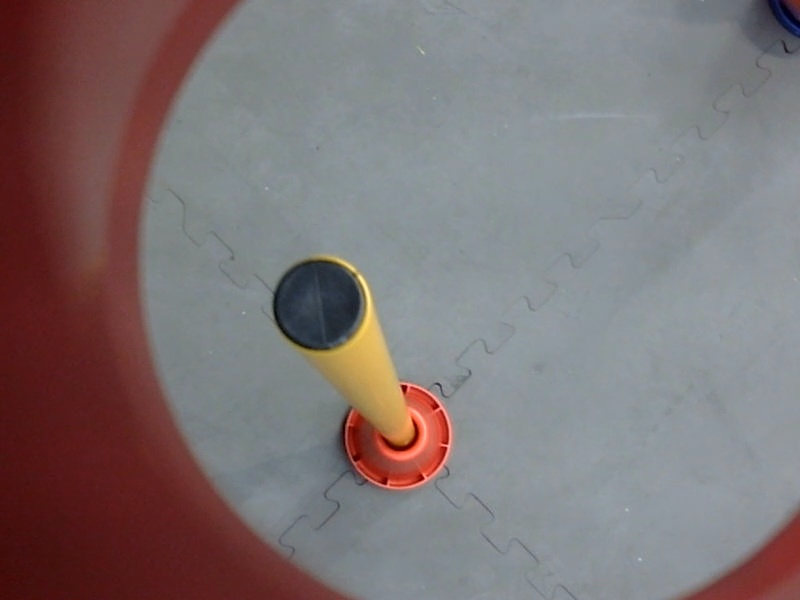tip: (266, 245, 376, 361)
